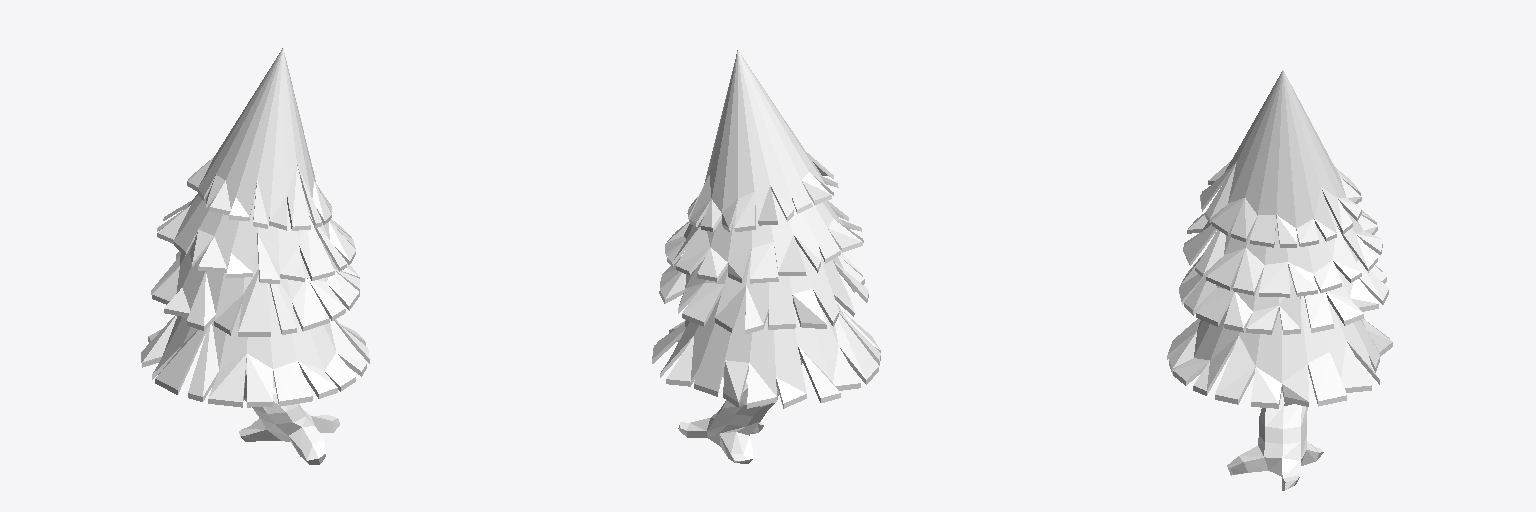
Rendered from Tree.obj.
3 renders of one model, left to right at view 1: azimuth 30°, elevation 25°; view 2: azimuth 150°, elevation 25°; view 3: azimuth 270°, elevation 25°, orthographic.
Visible parts, largest first — view 1: group3_pasted__group1_pasted__pasted__pCone1_Mesh.024; view 2: group3_pasted__group1_pasted__pasted__pCone1_Mesh.024; view 3: group3_pasted__group1_pasted__pasted__pCone1_Mesh.024.
Part boxes in pixels (left/top/right/bottom): group3_pasted__group1_pasted__pasted__pCone1_Mesh.024: left=141, top=48, right=369, bottom=464; group3_pasted__group1_pasted__pasted__pCone1_Mesh.024: left=652, top=50, right=880, bottom=463; group3_pasted__group1_pasted__pasted__pCone1_Mesh.024: left=1167, top=70, right=1392, bottom=490.
Size of the model in its own units: 0.8928 by 1.72 by 0.8756.